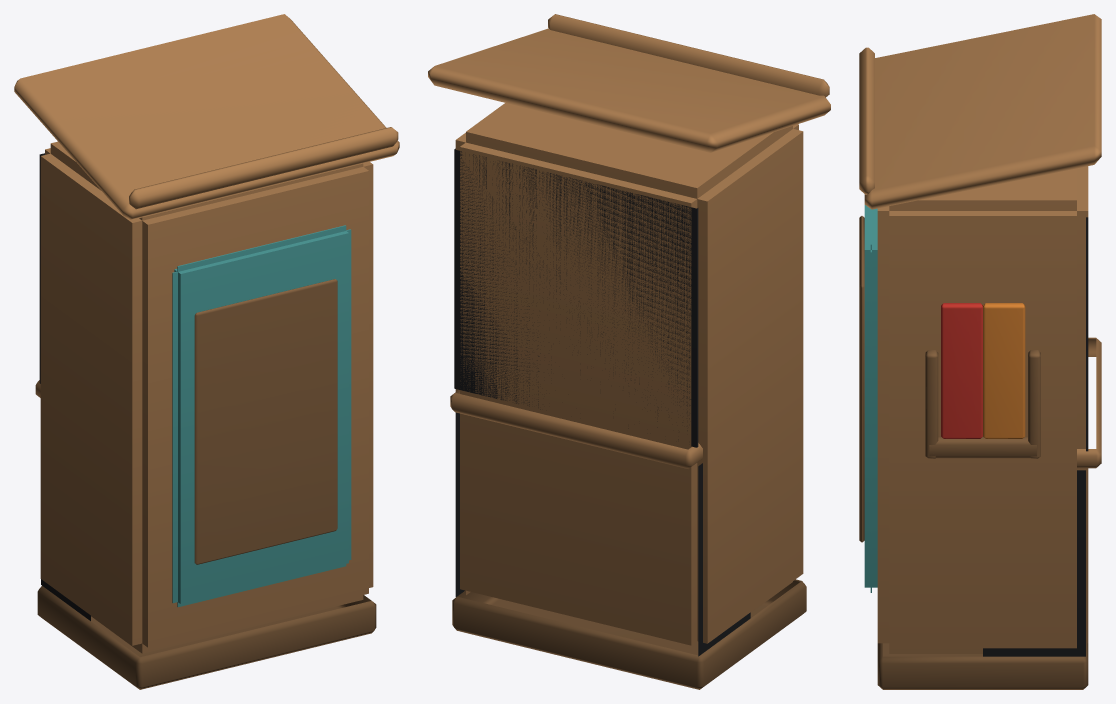
Rendered from HostStand_01.glb.
3 views of the same model, side by side, from view 1: azimuth 30°, elevation 25°; view 2: azimuth 150°, elevation 25°; view 3: azimuth 270°, elevation 25° (orthographic). The views are drawn at different scales.
Visible parts, largest first — view 1: SM_HostStand_01; view 2: SM_HostStand_01; view 3: SM_HostStand_01.
Boxes of the visible parts, x1,y1,x2,y2 form: SM_HostStand_01: [14, 14, 399, 689]; SM_HostStand_01: [428, 14, 830, 689]; SM_HostStand_01: [859, 14, 1101, 689].
Size of the model in its own units: 0.62 by 1.16 by 0.46.
1 material, 1 textured.
